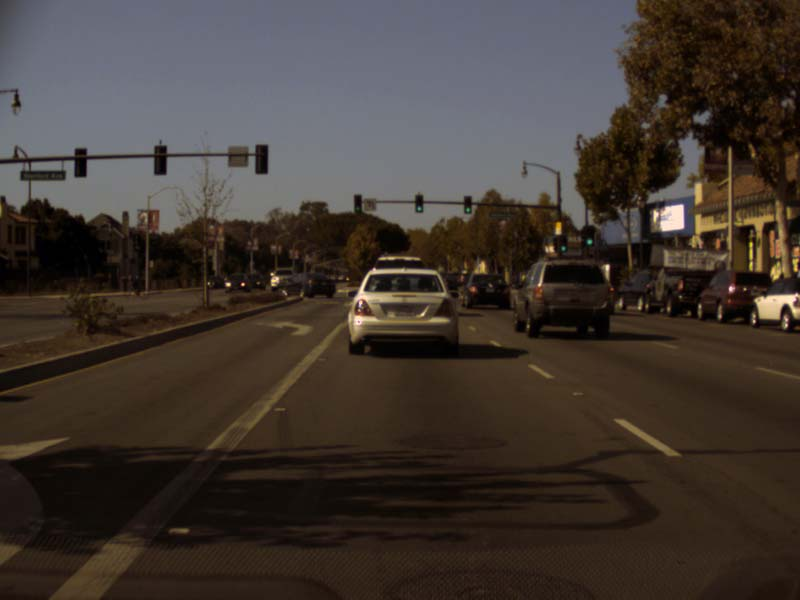Green: (583, 226, 593, 247), (463, 195, 472, 215), (414, 193, 423, 212), (353, 194, 362, 213), (557, 234, 566, 253)
